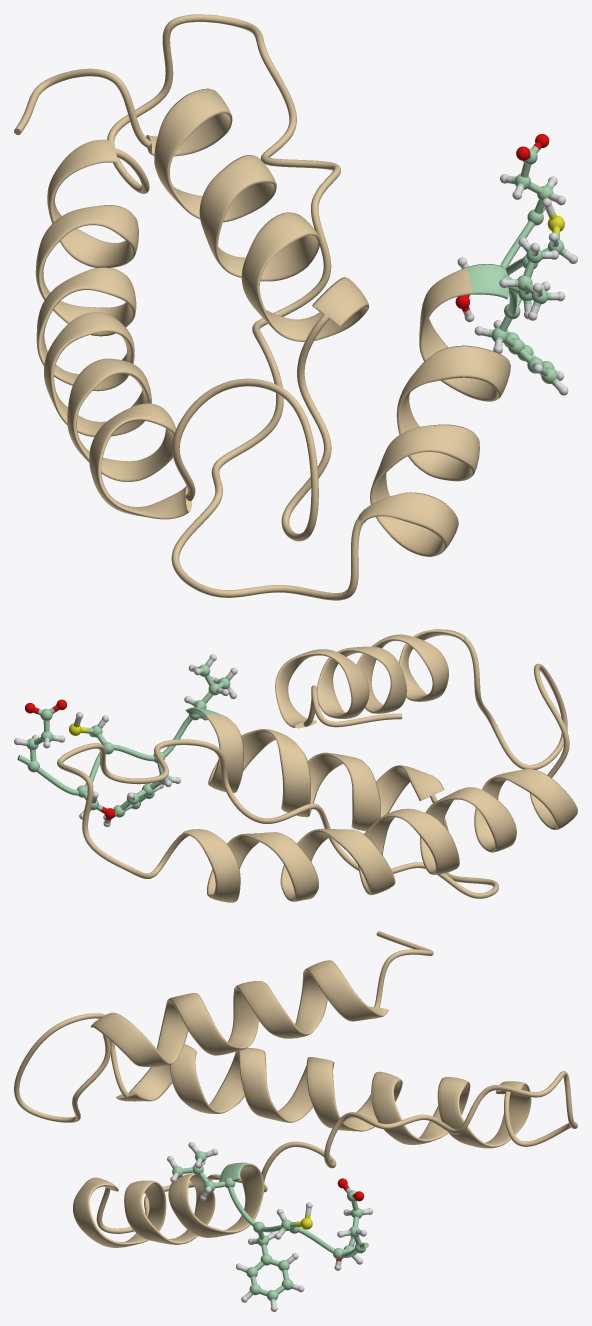
The model's file is jdomain.glb.
3 renders of one model, top to bottom at view 1: azimuth 30°, elevation 25°; view 2: azimuth 150°, elevation 25°; view 3: azimuth 270°, elevation 25°, orthographic. The views are drawn at different scales.
Parts seen in each view (by area): view 1: ribbons, atoms, bonds; view 2: ribbons, atoms, bonds; view 3: ribbons, atoms, bonds.
Part boxes in pixels (<box>): ribbons: <box>14,14,545,600</box>; atoms: <box>455,134,577,395</box>; bonds: <box>461,142,572,390</box>; ribbons: <box>17,629,577,902</box>; atoms: <box>14,654,237,826</box>; bonds: <box>19,658,234,823</box>; ribbons: <box>14,931,577,1257</box>; atoms: <box>167,1142,373,1311</box>; bonds: <box>169,1145,369,1306</box>.
Bounding box in the file's own units: 36.19 × 22.48 × 41.52.
